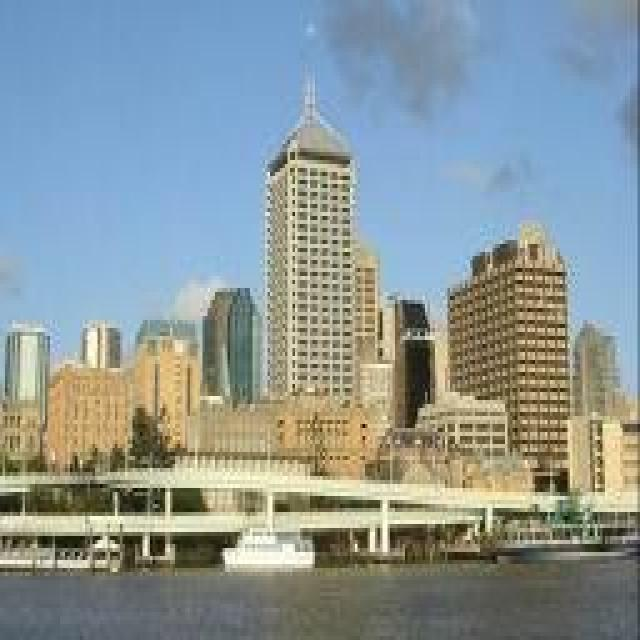building: (50, 339, 378, 457), (447, 220, 575, 467), (264, 69, 358, 399)
